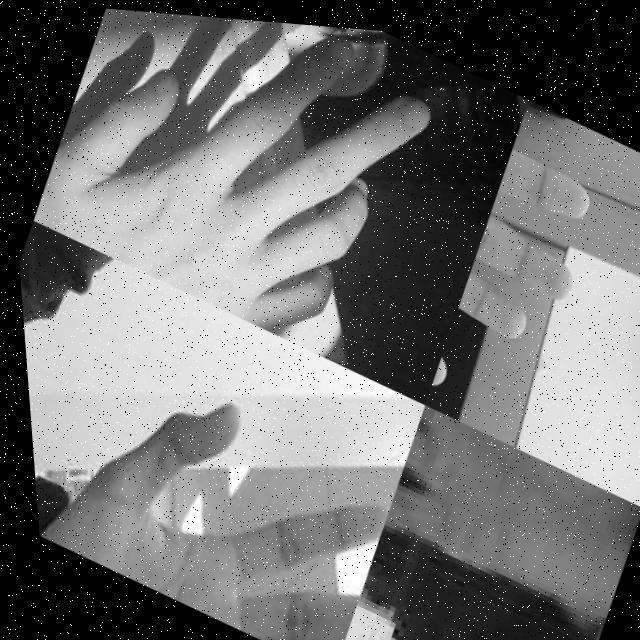no-gloves: (16, 1, 461, 370), (20, 334, 402, 640), (405, 82, 636, 434), (360, 394, 640, 640)
